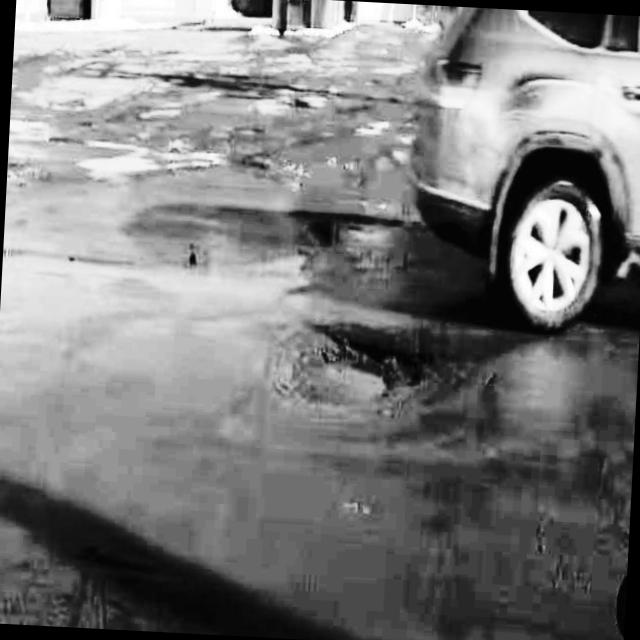Pothole: (266, 303, 421, 437)
